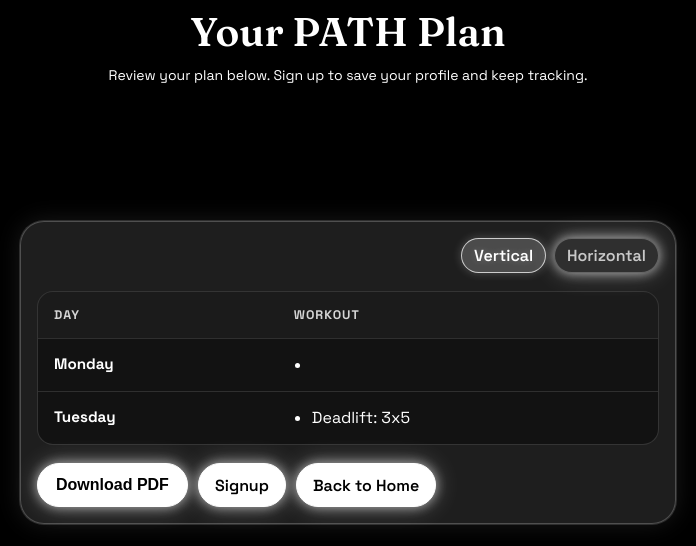
Test: WorkoutResultPage › the horizontal layout › the row label it derives › takes the label from the first day that has text on that row
Click the button "Horizontal" at (606, 255), box [554,238,659,273]
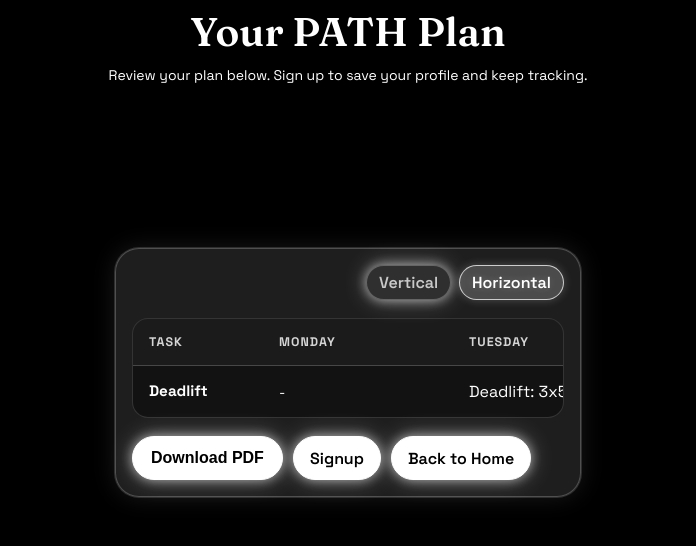
Result: the column heading "Deadlift" is shown at [133,366,263,418]
